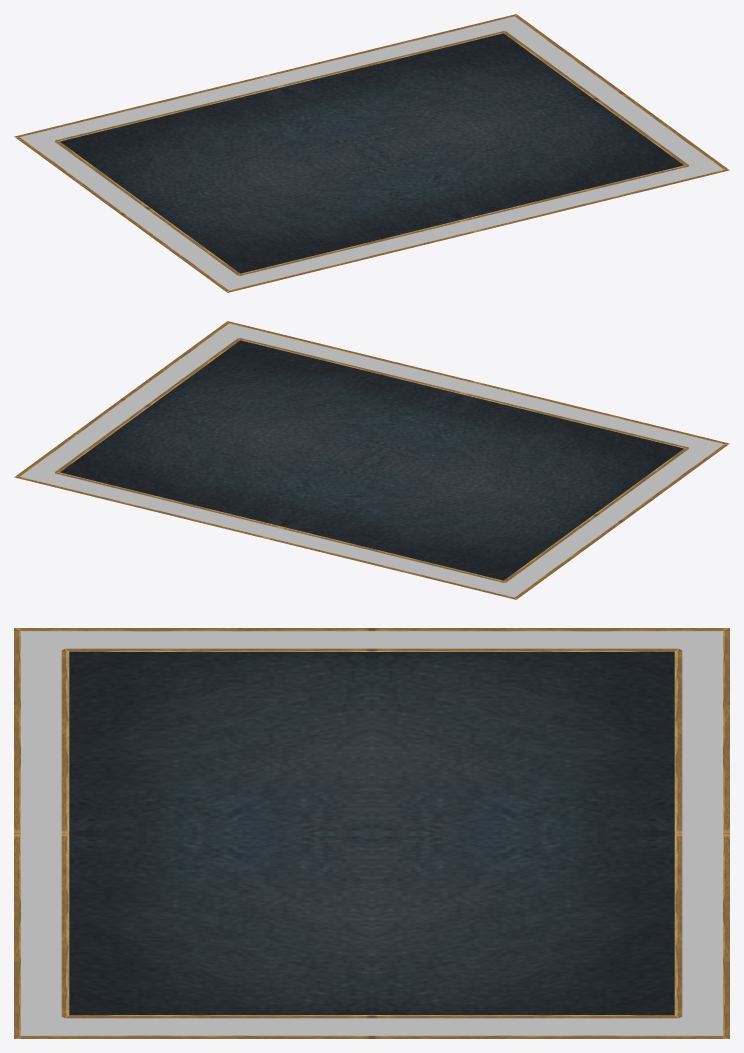
Rendered from Carpet_B.fbx.
3 renders of one model, top to bottom at view 1: azimuth 30°, elevation 25°; view 2: azimuth 150°, elevation 25°; view 3: azimuth 270°, elevation 25°, orthographic. The views are drawn at different scales.
Parts seen in each view (by area): view 1: Carpet_B; view 2: Carpet_B; view 3: Carpet_B.
Part boxes in pixels (x1=…): Carpet_B: x1=14, y1=14, x2=729, y2=292; Carpet_B: x1=14, y1=321, x2=729, y2=599; Carpet_B: x1=14, y1=628, x2=729, y2=1038.
Size of the model in its own units: 0.6705 by 3.02e-17 by 0.4937.
